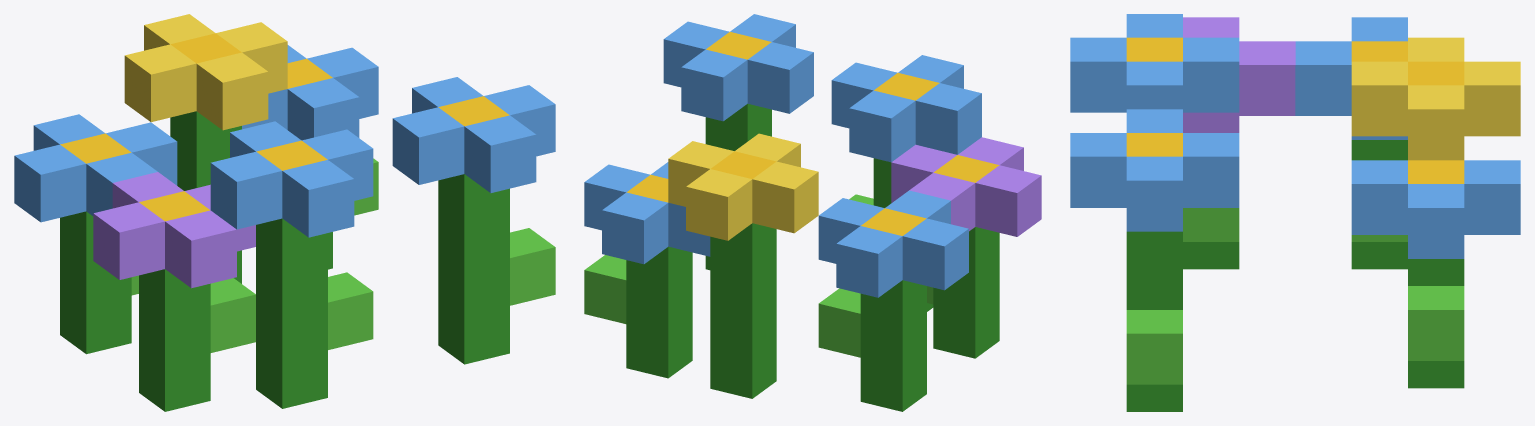
Rendered from deko_blumen.fbx.
3 renders of one model, left to right at view 1: azimuth 30°, elevation 25°; view 2: azimuth 150°, elevation 25°; view 3: azimuth 270°, elevation 25°, orthographic. The views are drawn at different scales.
Visible parts, largest first — view 1: Deko_Blumen; view 2: Deko_Blumen; view 3: Deko_Blumen.
Boxes of the visible parts, left/top/right/bottom form: Deko_Blumen: left=14, top=14, right=555, bottom=411; Deko_Blumen: left=584, top=14, right=1041, bottom=411; Deko_Blumen: left=1070, top=14, right=1520, bottom=411.
Size of the model in its own units: 6.75 by 3.75 by 6.
1 material, 1 textured.
